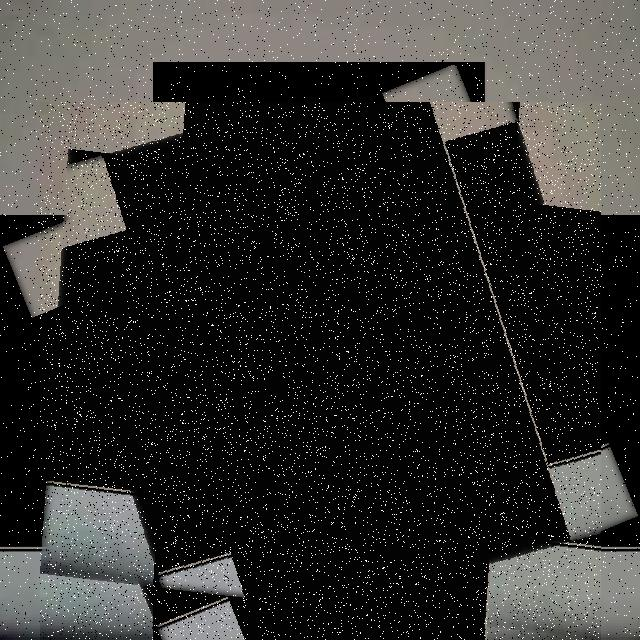dua puluh ribu rupiah: (40, 102, 601, 640)
